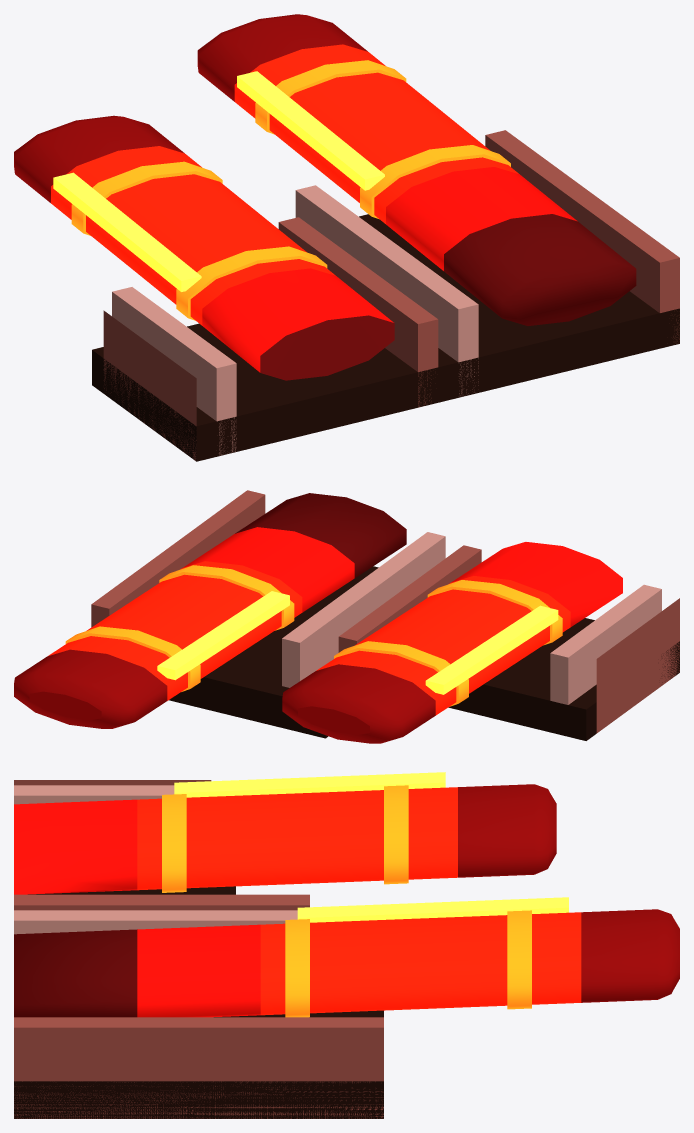
File: newshf-155.glb
3 views of the same model, one above another, from view 1: azimuth 30°, elevation 25°; view 2: azimuth 150°, elevation 25°; view 3: azimuth 270°, elevation 25° (orthographic). The views are drawn at different scales.
Visible parts, largest first — view 1: newshf-155; view 2: newshf-155; view 3: newshf-155.
Boxes of the visible parts, left/top/right/bottom form: newshf-155: left=14, top=14, right=679, bottom=461; newshf-155: left=14, top=490, right=679, bottom=743; newshf-155: left=14, top=772, right=679, bottom=1118.
Bounding box in the file's own units: 2 × 0.5086 × 2.25.
